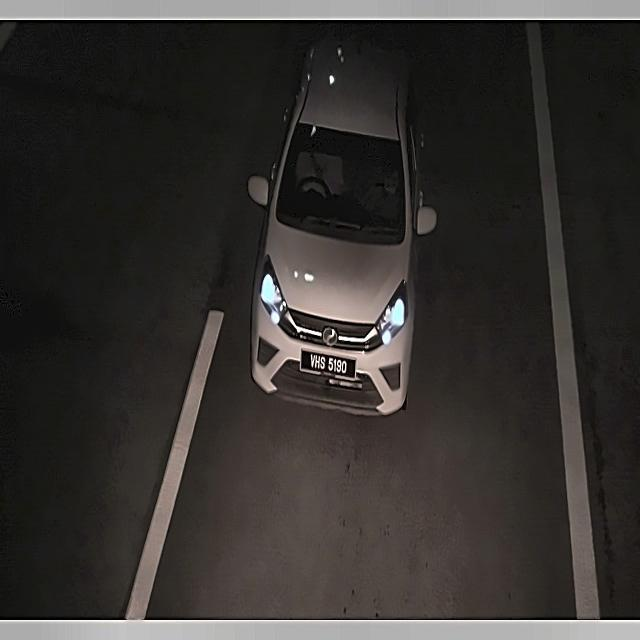car: (298, 344, 366, 387)
